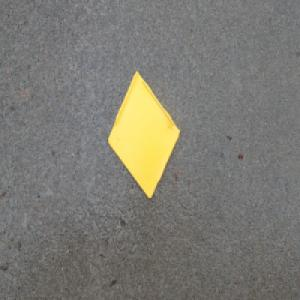PlasticPart: (106, 69, 180, 202)
